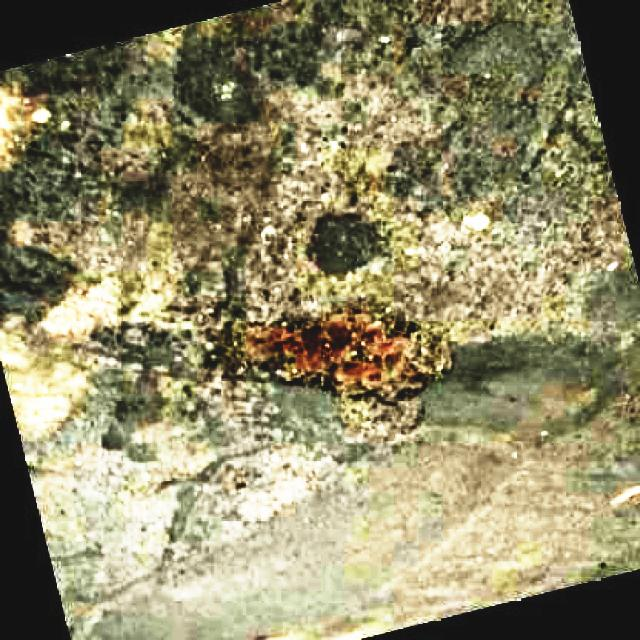pothole: (0, 263, 197, 434), (226, 297, 457, 414)
